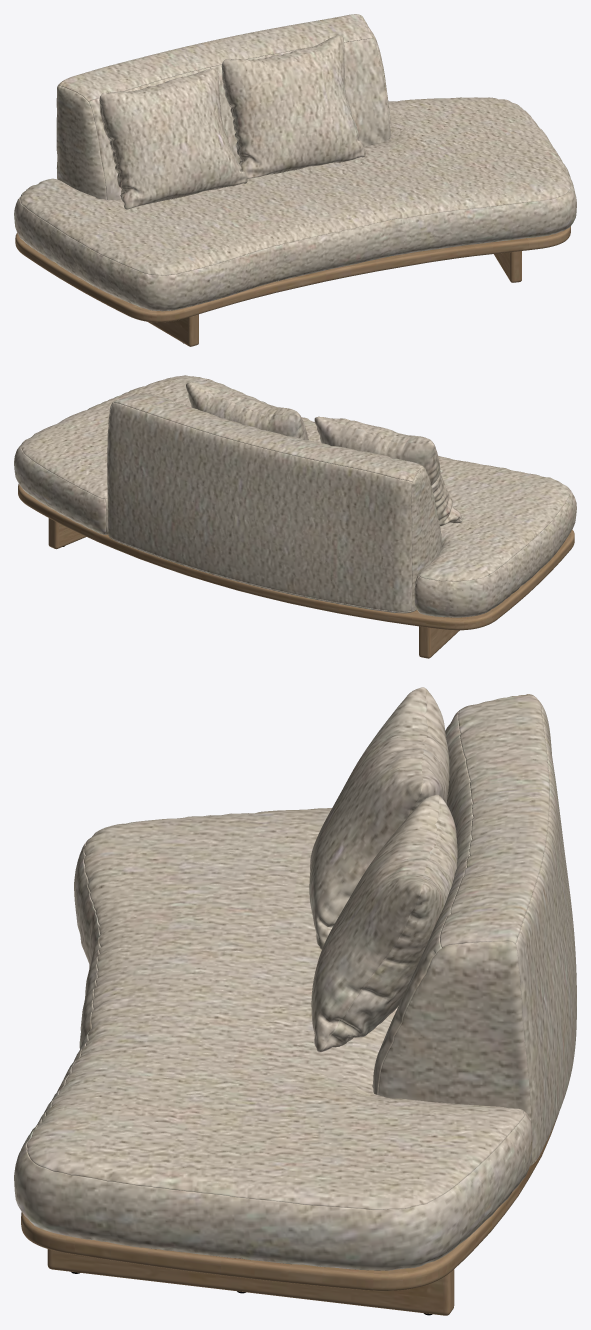
The model's file is sofaDaphne.glb.
3 renders of one model, top to bottom at view 1: azimuth 30°, elevation 25°; view 2: azimuth 150°, elevation 25°; view 3: azimuth 270°, elevation 25°, orthographic. The views are drawn at different scales.
Parts seen in each view (by area): view 1: Fabric part, Wood part; view 2: Fabric part, Wood part; view 3: Fabric part, Wood part.
Part boxes in pixels (left/top/right/bottom): Fabric part: left=14, top=14, right=576, bottom=311; Wood part: left=15, top=226, right=570, bottom=346; Fabric part: left=14, top=375, right=576, bottom=617; Wood part: left=18, top=484, right=574, bottom=658; Fabric part: left=14, top=687, right=576, bottom=1270; Wood part: left=21, top=1113, right=558, bottom=1315.
Bounding box in the file's own units: 2.05 × 0.7572 × 1.19.
3 materials, 2 textured.
